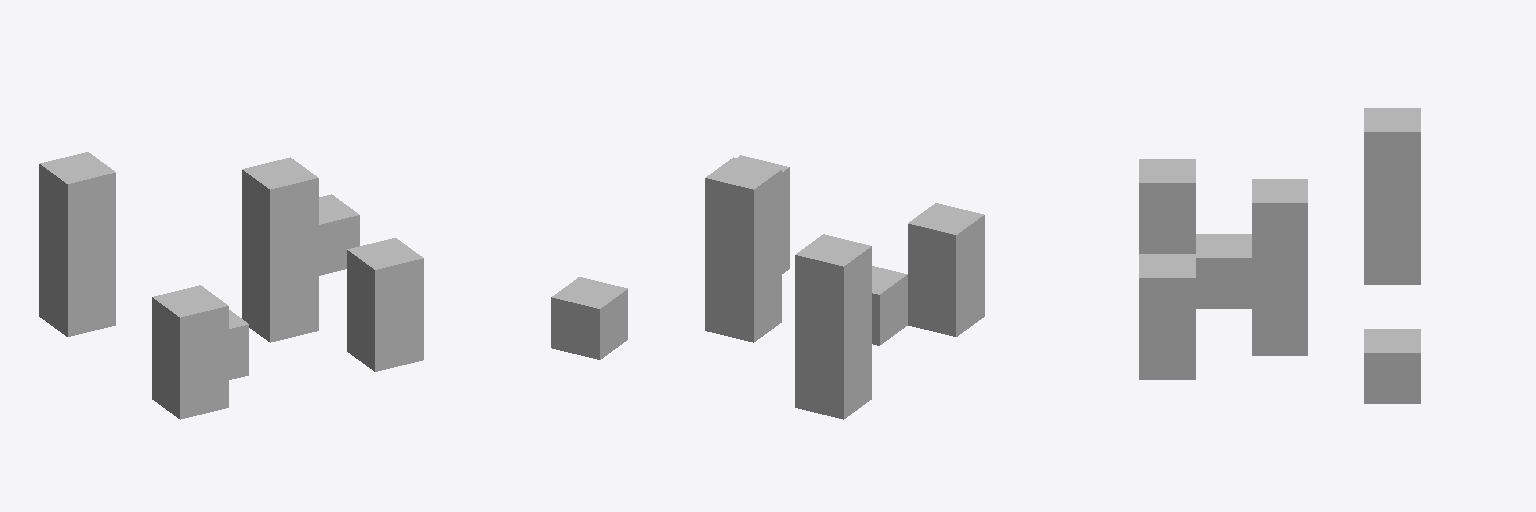
File: darkGrass2-0.obj
3 renders of one model, left to right at view 1: azimuth 30°, elevation 25°; view 2: azimuth 150°, elevation 25°; view 3: azimuth 270°, elevation 25°, orthographic.
Visible parts, largest first — view 1: object 1; view 2: object 1; view 3: object 1.
Part boxes in pixels (left/top/right/bottom): object 1: left=39, top=152, right=423, bottom=419; object 1: left=551, top=155, right=984, bottom=419; object 1: left=1139, top=108, right=1420, bottom=403.
Size of the model in its own units: 0.6 by 0.3 by 0.5.